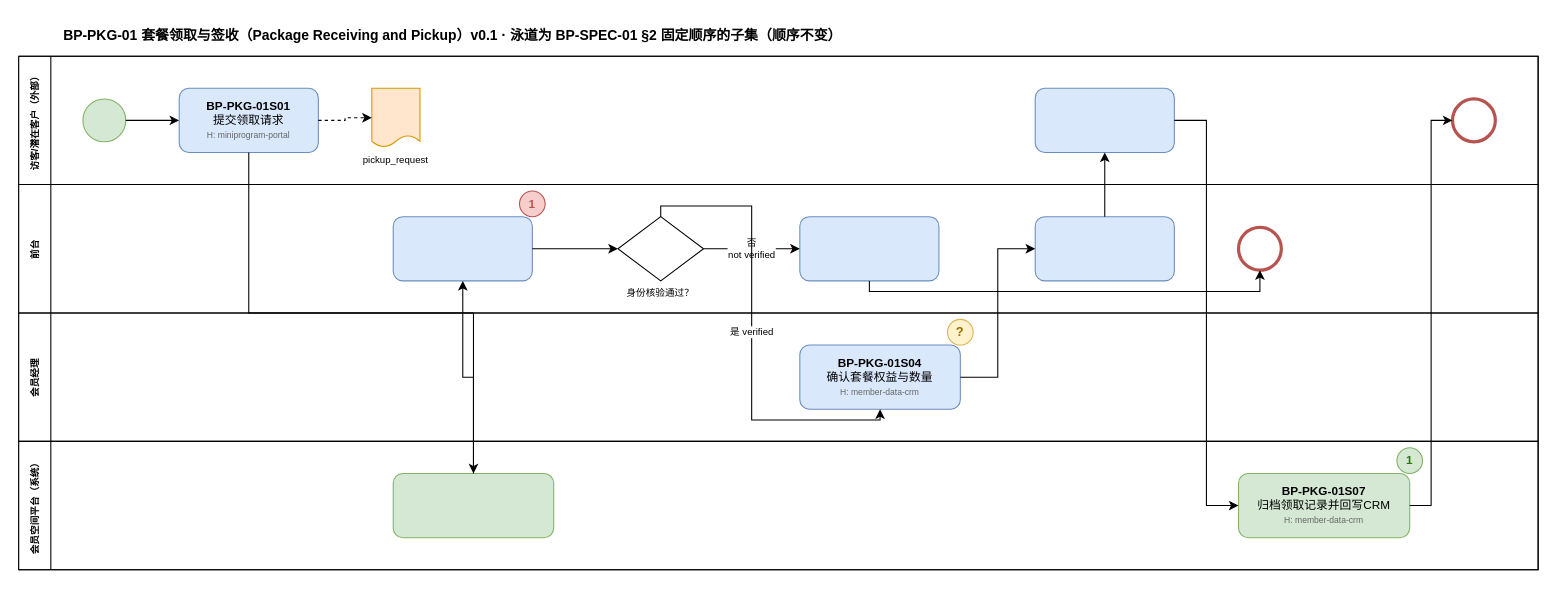
This 1557x589 diagram has some shape labels left out. The shapes that lost their labels are listed below. From the top down, each one's centre as x and y in pixels, then its label:
At (x=1104, y=119): "BP-PKG-01S06 签收确认 H: miniprogram-portal".
At (x=462, y=248): "BP-PKG-01S03 核对访客身份 H: member-data-crm".
At (x=660, y=248): "G01".
At (x=869, y=248): "BP-PKG-01S08 驳回并生成通知 H: miniprogram-portal".
At (x=1104, y=248): "BP-PKG-01S05 出库扫码并登记 H: member-data-crm".
At (x=473, y=505): "BP-PKG-01S02 校验请求并生成领取凭证 H: member-data-crm".
